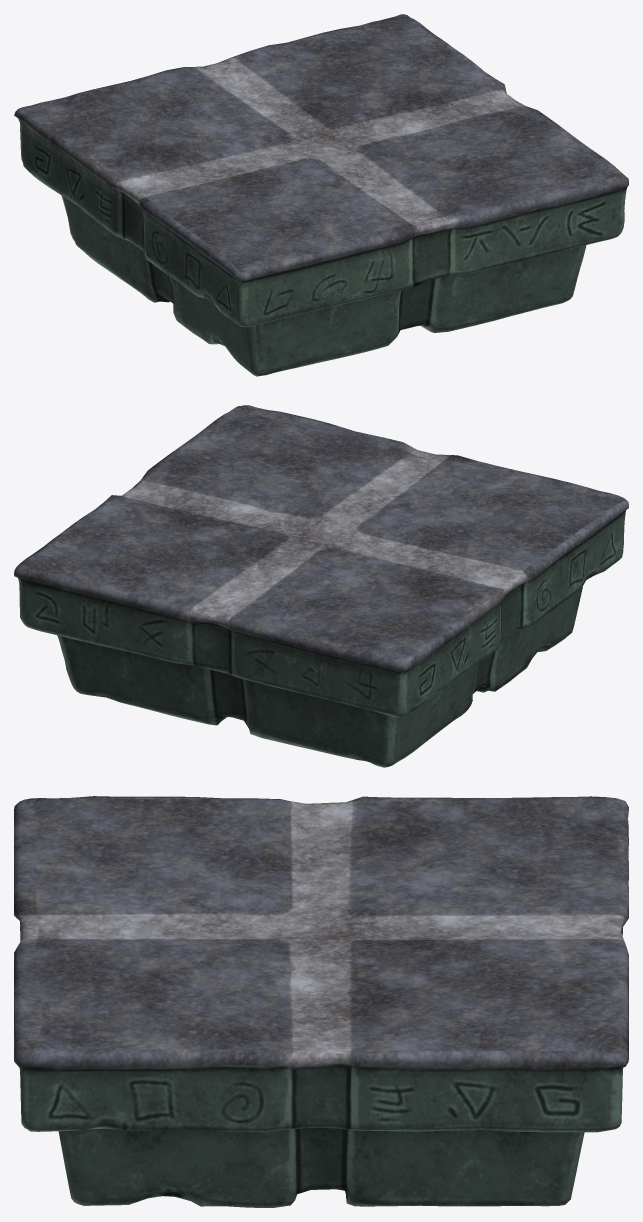
File: flying_platform.glb
3 views of the same model, one above another, from view 1: azimuth 30°, elevation 25°; view 2: azimuth 150°, elevation 25°; view 3: azimuth 270°, elevation 25° (orthographic). The views are drawn at different scales.
Parts seen in each view (by area): view 1: kiogame3; view 2: kiogame3; view 3: kiogame3.
Boxes of the visible parts, x1,y1,x2,y2 form: kiogame3: [14, 14, 628, 376]; kiogame3: [14, 405, 628, 767]; kiogame3: [14, 796, 628, 1207].
Size of the model in its own units: 1.17 by 0.3761 by 1.17.
Materials: 1 (1 with a texture image).
